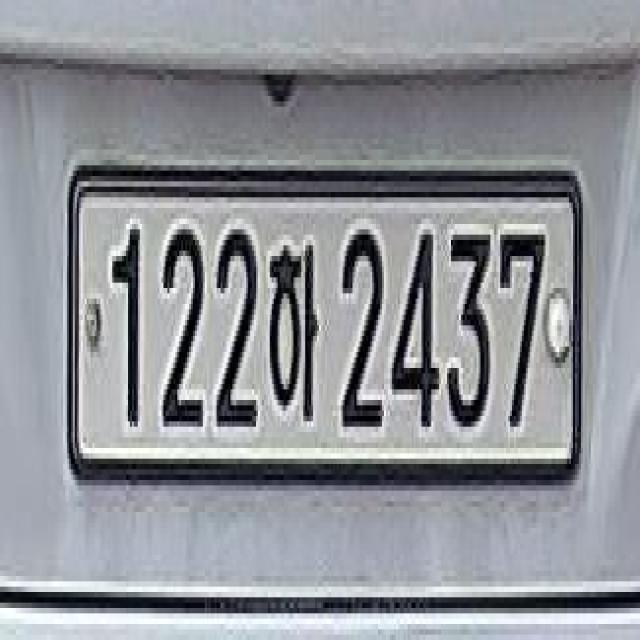illegal_plate: (70, 152, 582, 504)
